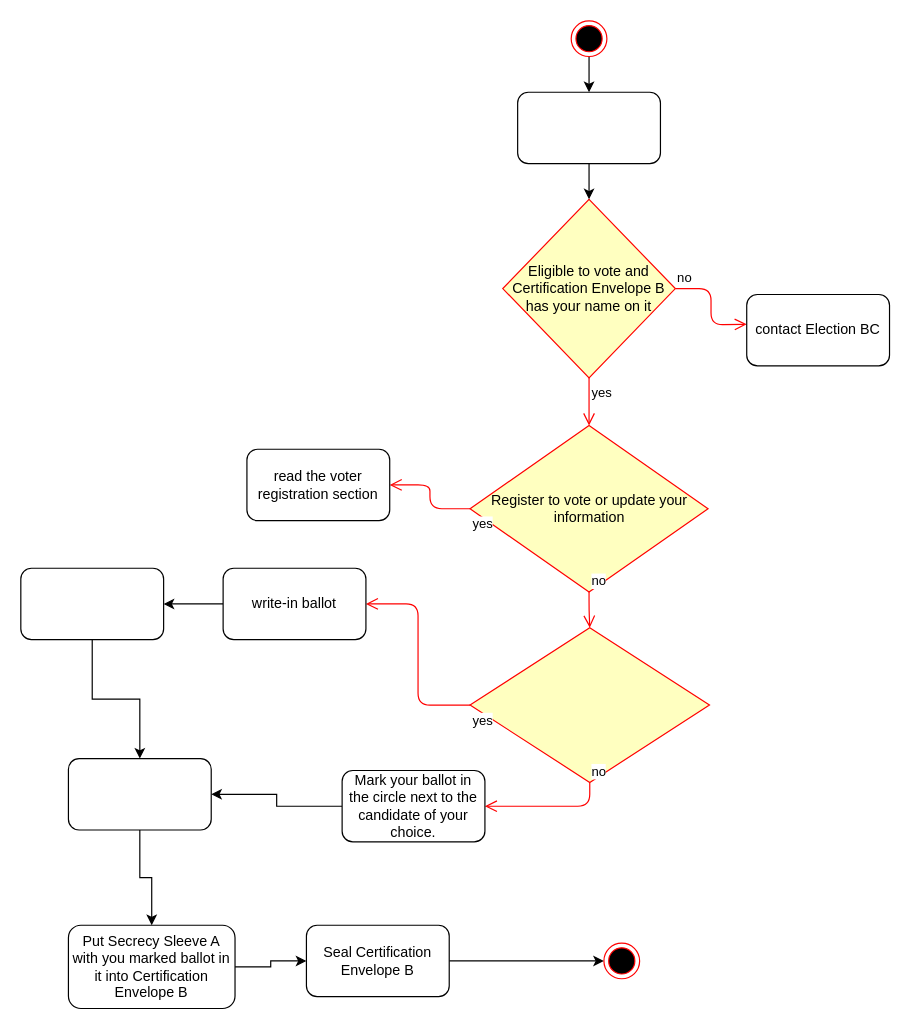
Image size: 910x1029. Some labels were removed from this diagram. The box of each missing label's shape, as (x1, y1, x2, y2) in pixels:
print the name of the candidate or party of your choice clearly in the white box: (20, 567, 164, 640)
Read all the instruction: (516, 91, 660, 164)
Refold your ballot and put it in Secrecy Sleeve A: (67, 757, 211, 830)
Requested your vote-by-mail package before candidate nomination closed: (469, 627, 709, 782)
